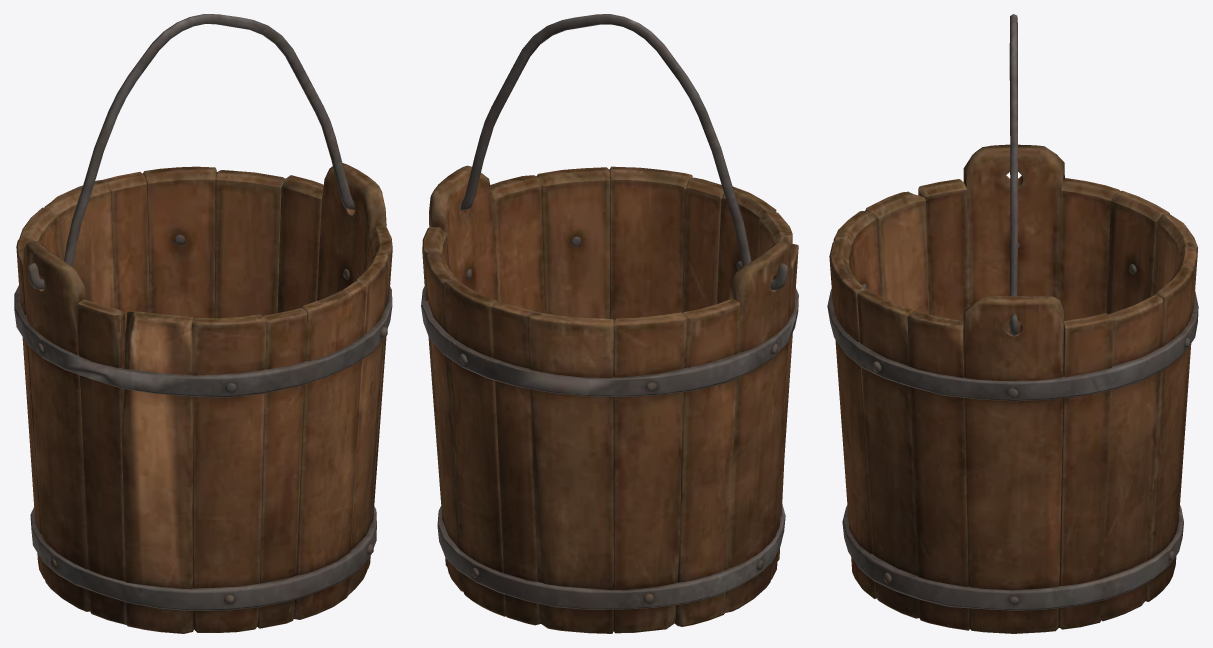
The model's file is bucket.glb.
3 renders of one model, left to right at view 1: azimuth 30°, elevation 25°; view 2: azimuth 150°, elevation 25°; view 3: azimuth 270°, elevation 25°, orthographic.
Visible parts, largest first — view 1: wooden_bucket_01; view 2: wooden_bucket_01; view 3: wooden_bucket_01.
Part boxes in pixels (x1,y1,x2,y2): wooden_bucket_01: (14,14,392,633); wooden_bucket_01: (421,14,798,633); wooden_bucket_01: (827,14,1198,633).
Size of the model in its own units: 0.367 by 0.5499 by 0.3422.
1 material, 1 textured.
